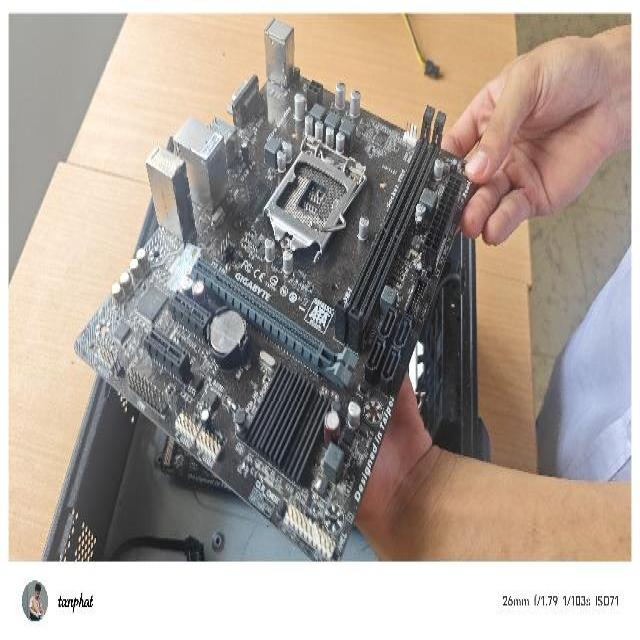Mainboard: (74, 14, 477, 562)
